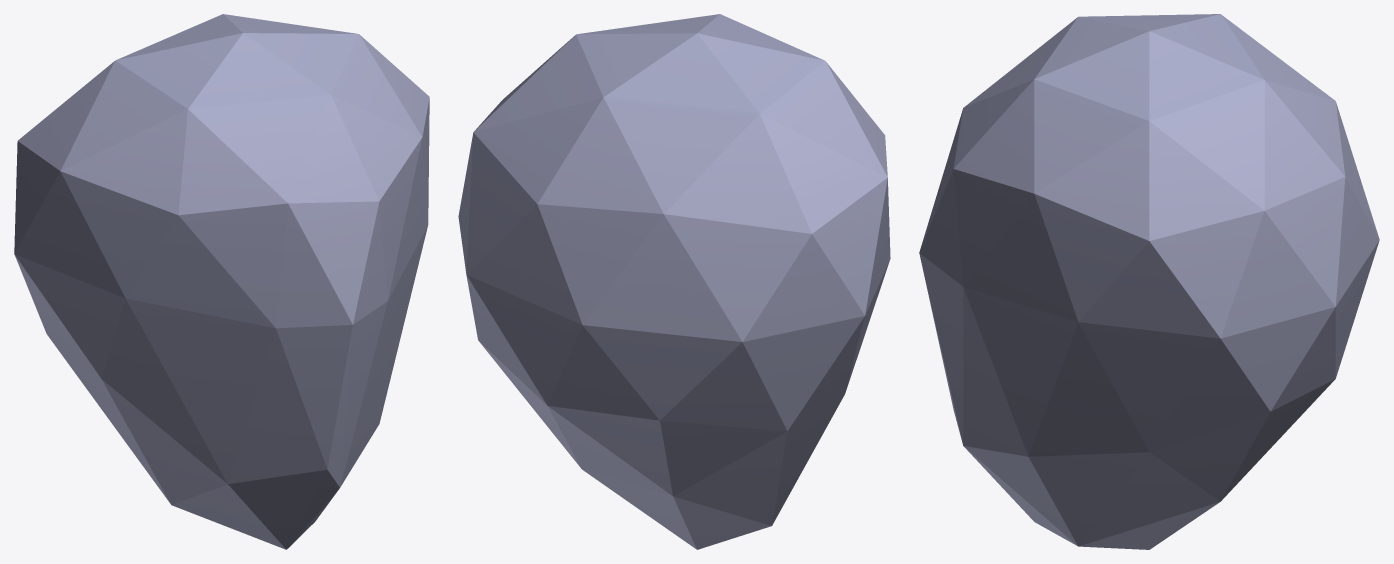
File: Precious stone.fbx
3 views of the same model, side by side, from view 1: azimuth 30°, elevation 25°; view 2: azimuth 150°, elevation 25°; view 3: azimuth 270°, elevation 25° (orthographic). The views are drawn at different scales.
Parts seen in each view (by area): view 1: Precious stone; view 2: Precious stone; view 3: Precious stone.
Part boxes in pixels (x1=…): Precious stone: x1=14, y1=14, x2=429, y2=549; Precious stone: x1=458, y1=14, x2=890, y2=549; Precious stone: x1=919, y1=14, x2=1379, y2=549.
Size of the model in its own units: 12.96 by 15.73 by 12.65.
